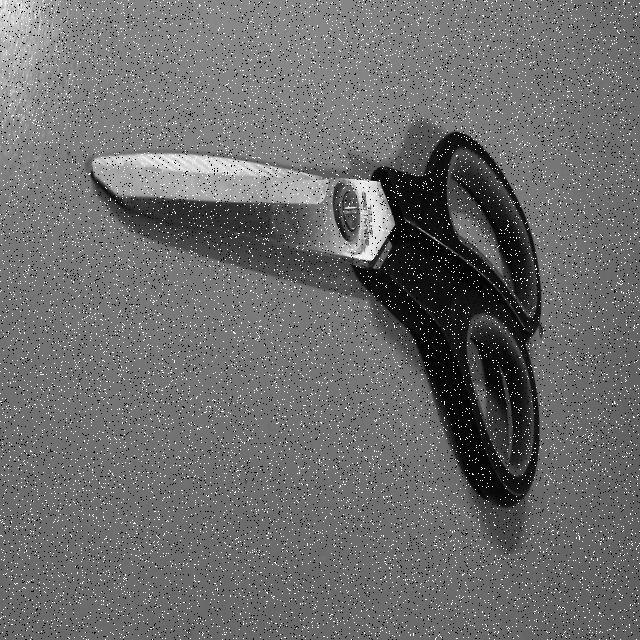scissors: (82, 120, 546, 514)
